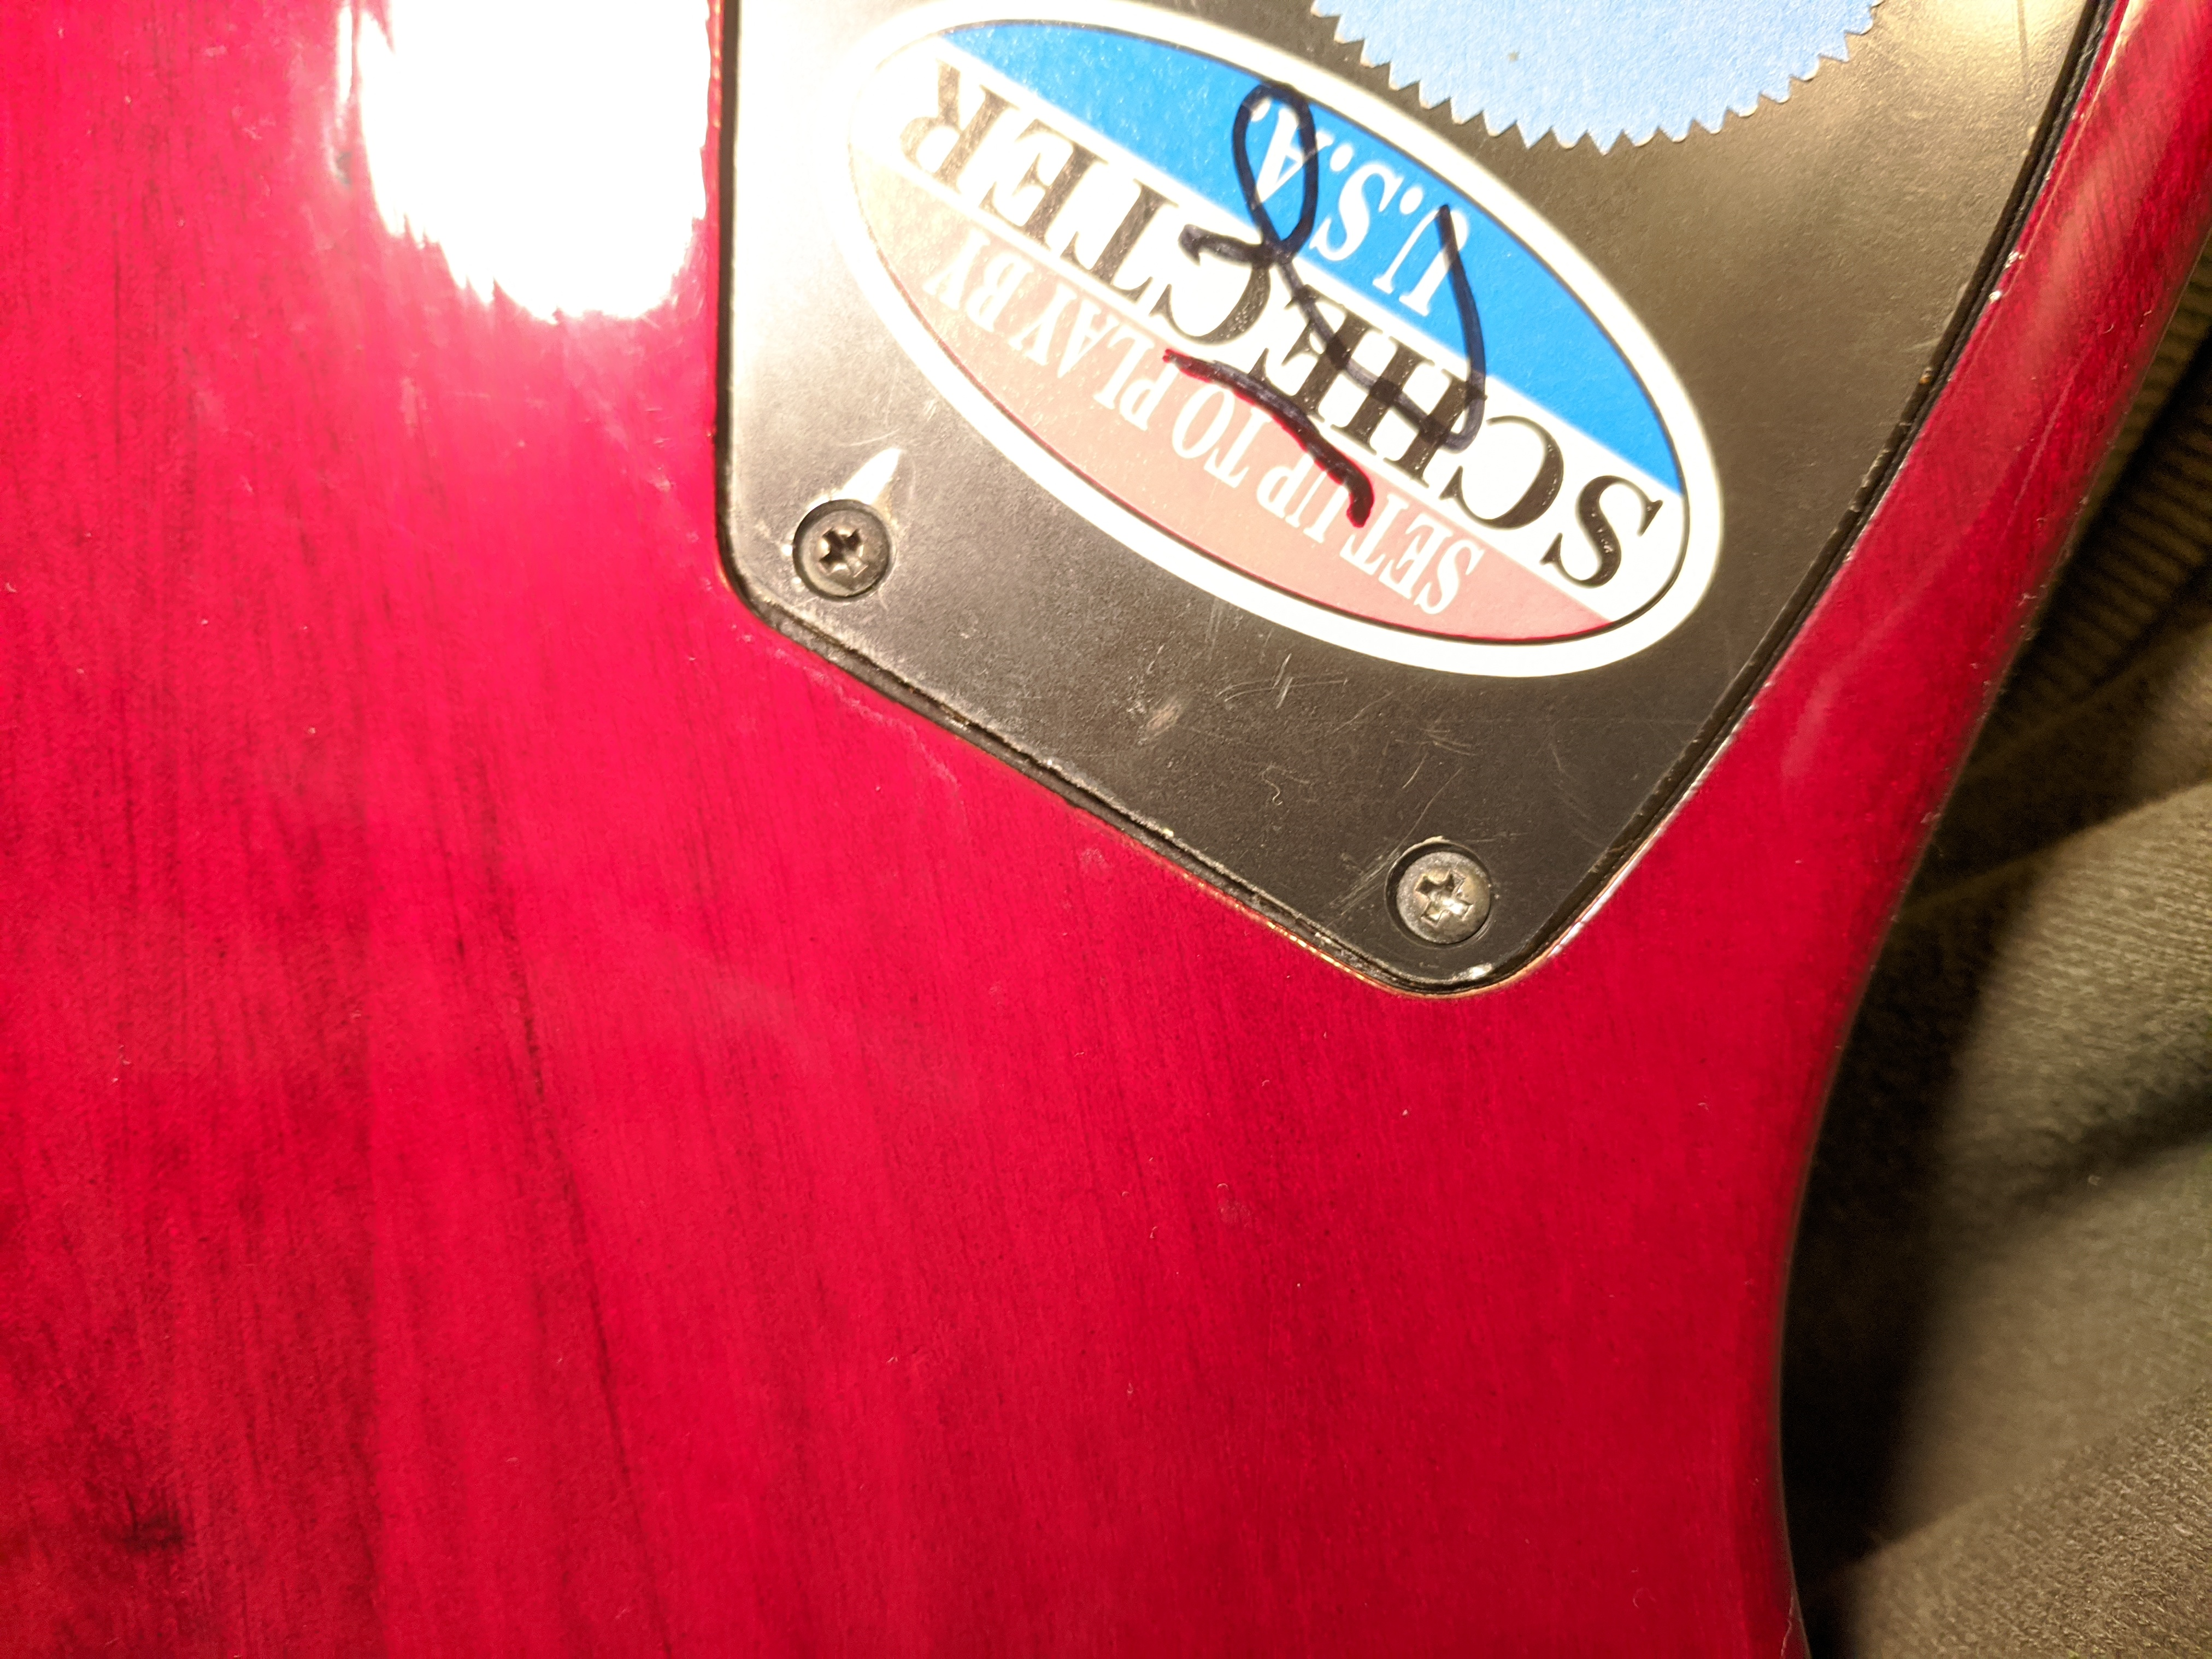cross_recessed_screw: (1385, 826, 1500, 960), (782, 491, 904, 617)
